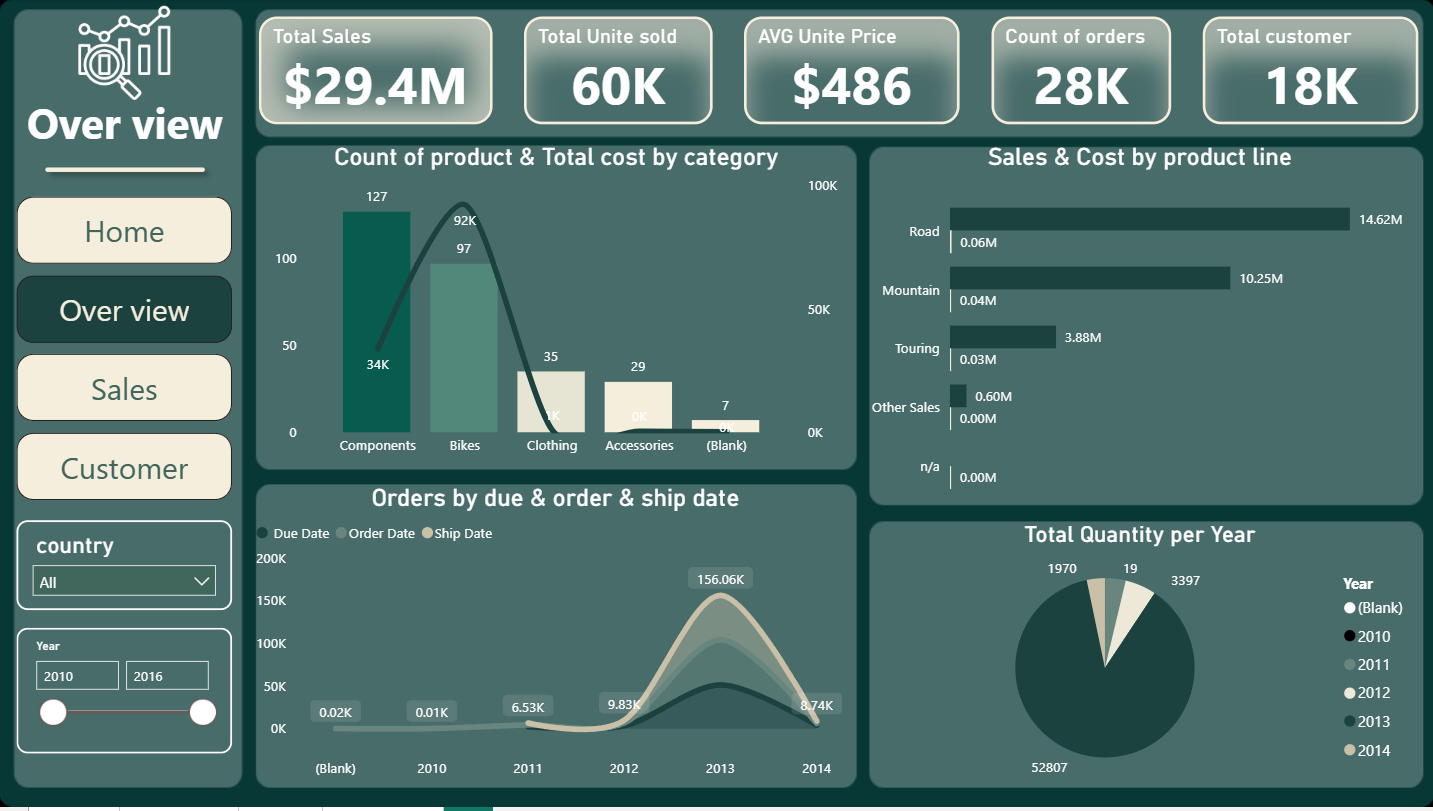

The dashboard page shown, as its layout file describes it:
{"tool":"powerbi","page":{"name":"Over view","canvas":[1280,720],"ordinal":1},"visuals":[{"type":"card","title":"AVG Unite Price","fields":{"Values":["Measurs.#AVG Unite Price"]},"box":[664,16,192,96],"z":0},{"type":"card","title":"Count of orders","fields":{"Values":["Measurs.#Order Count"]},"box":[884,16,160,96],"z":1000},{"type":"card","title":"Total Unite sold","fields":{"Values":["Measurs.#Total Quantity"]},"box":[468,16,168,96],"z":2000},{"type":"card","title":"Total Sales","fields":{"Values":["Measurs.#Total sales"]},"box":[232,16,208,96],"z":3000},{"type":"clusteredBarChart","title":"Sales & Cost by product line","fields":{"Category":["Dim_products.product_line"],"Y":["Sum(Fact_sales.Sales)","Sum(Dim_products.cost)"]},"box":[768,128,496,336],"z":4000},{"type":"textbox","box":[0,80,224,64],"z":5000},{"type":"shape","box":[32,128,160,48],"z":6000},{"type":"lineStackedColumnComboChart","title":"Count of product & Total cost by category","fields":{"Category":["Dim_products.category"],"Y":["CountNonNull(Dim_products.product_id)"],"Y2":["Sum(Dim_products.cost)"]},"box":[240,128,512,288],"z":7000},{"type":"stackedAreaChart","title":"Orders by due & order & ship date","fields":{"Category":["DateTable.Date.Variation.Date Hierarchy.Year"],"Y":["Measurs.Orders by Due Date","Measurs.Orders by Order Date","Measurs.Orders by Ship Date"]},"box":[224,432,544,272],"z":8000},{"type":"pieChart","title":"Total Quantity per Year","fields":{"Y":["Sum(Fact_sales.Quantity)"],"Category":["DateTable.Year"]},"box":[768,464,496,240],"z":9000},{"type":"bookmarkNavigator","box":[16,176,192,272],"z":10000},{"type":"image","box":[16,0,192,96],"z":11000},{"type":"card","title":"Total customer","fields":{"Values":["Measurs.Total  customer"]},"box":[1072,16,192,96],"z":12000},{"type":"slicer","fields":{"Values":["DateTable.Year"]},"box":[16,560,192,112],"z":13000},{"type":"slicer","fields":{"Values":["Dim_customers.country"]},"box":[16,464,192,80],"z":14000}]}

Visuals, with their boxes in screenshot pixels (x1, y1, x2, y2), scaled from the page's 1280x720 canvas onto the 1433x811 screenshot:
"AVG Unite Price" card: {"left": 743, "top": 18, "right": 958, "bottom": 126}
"Count of orders" card: {"left": 990, "top": 18, "right": 1169, "bottom": 126}
"Total Unite sold" card: {"left": 524, "top": 18, "right": 712, "bottom": 126}
"Total Sales" card: {"left": 260, "top": 18, "right": 493, "bottom": 126}
"Sales & Cost by product line" clusteredBarChart: {"left": 860, "top": 144, "right": 1415, "bottom": 523}
textbox: {"left": 0, "top": 90, "right": 251, "bottom": 162}
shape: {"left": 36, "top": 144, "right": 215, "bottom": 198}
"Count of product & Total cost by category" lineStackedColumnComboChart: {"left": 269, "top": 144, "right": 842, "bottom": 469}
"Orders by due & order & ship date" stackedAreaChart: {"left": 251, "top": 487, "right": 860, "bottom": 793}
"Total Quantity per Year" pieChart: {"left": 860, "top": 523, "right": 1415, "bottom": 793}
bookmarkNavigator: {"left": 18, "top": 198, "right": 233, "bottom": 505}
image: {"left": 18, "top": 0, "right": 233, "bottom": 108}
"Total customer" card: {"left": 1200, "top": 18, "right": 1415, "bottom": 126}
slicer - DateTable.Year: {"left": 18, "top": 631, "right": 233, "bottom": 757}
slicer - Dim_customers.country: {"left": 18, "top": 523, "right": 233, "bottom": 613}
